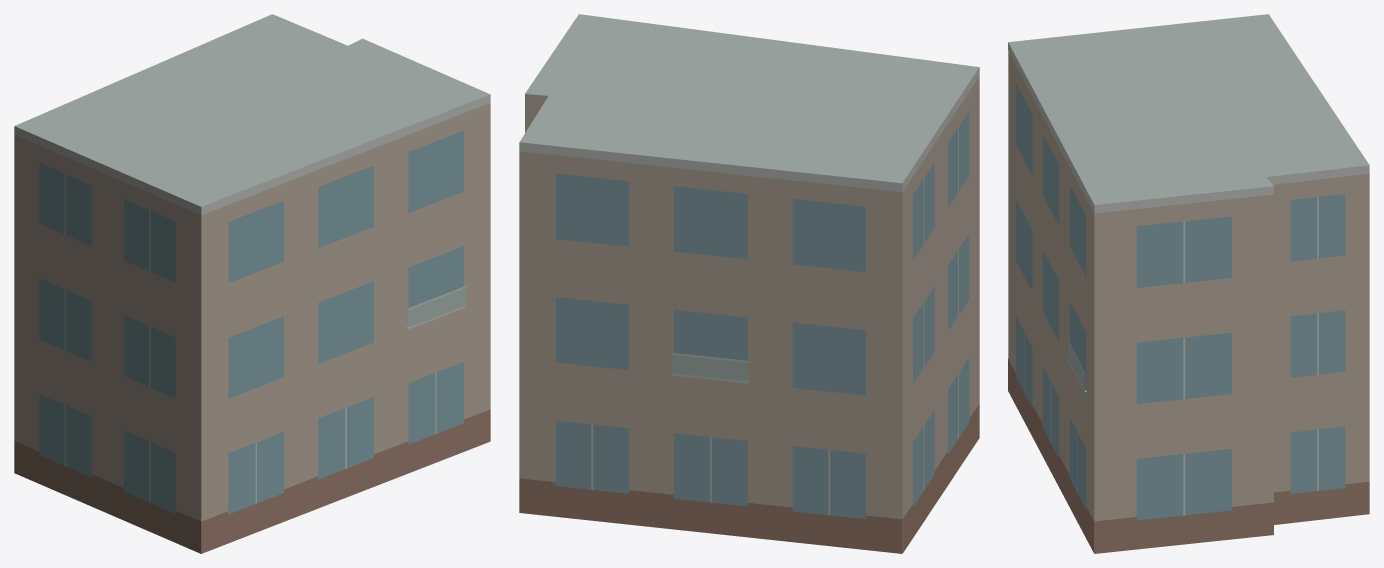
Rendered from survey-upis-32888692.glb.
The picture shows the model from 3 angles, left to right: view 1: azimuth 30°, elevation 25°; view 2: azimuth 150°, elevation 25°; view 3: azimuth 270°, elevation 25°; orthographic projection. The views are drawn at different scales.
Parts seen in each view (by area): view 1: survey-upis-32888692.tmp; view 2: survey-upis-32888692.tmp; view 3: survey-upis-32888692.tmp.
Part boxes in pixels (x1,y1,x2,y2): survey-upis-32888692.tmp: (14,14,490,553); survey-upis-32888692.tmp: (519,14,979,553); survey-upis-32888692.tmp: (1008,14,1369,553).
Bounding box in the file's own units: 11.88 × 10.1 × 9.5.
